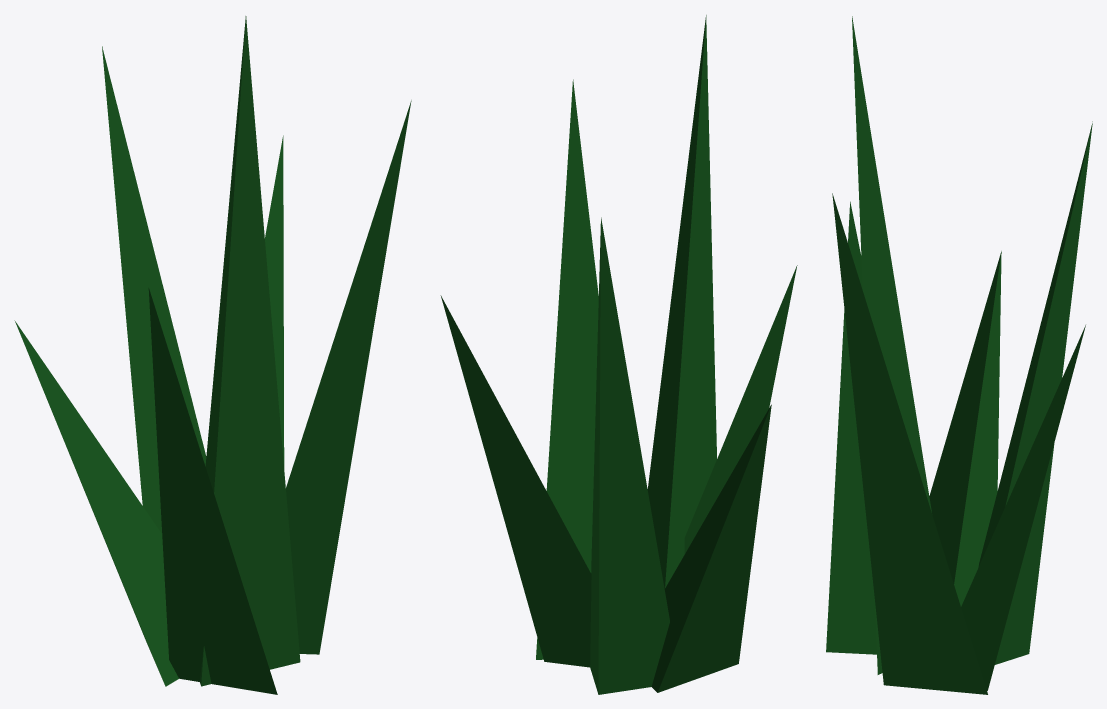
Rendered from grass1.fbx.
The picture shows the model from 3 angles, left to right: view 1: azimuth 30°, elevation 25°; view 2: azimuth 150°, elevation 25°; view 3: azimuth 270°, elevation 25°; orthographic projection. The views are drawn at different scales.
Parts seen in each view (by area): view 1: Cone, Cone.005, Cone.002, Cone.003, Cone.001, Cone.004; view 2: Cone.003, Cone, Cone.004, Cone.002, Cone.001, Cone.005; view 3: Cone.002, Cone.001, Cone.003, Cone.005, Cone.004, Cone.
Part boxes in pixels (<box>): Cone: <box>199,16,300,686</box>; Cone.005: <box>148,288,277,694</box>; Cone.002: <box>286,100,411,654</box>; Cone.003: <box>102,46,206,533</box>; Cone.001: <box>14,320,178,686</box>; Cone.004: <box>265,135,284,467</box>; Cone.003: <box>590,217,669,694</box>; Cone: <box>647,15,716,588</box>; Cone.004: <box>440,295,591,667</box>; Cone.002: <box>536,79,598,659</box>; Cone.001: <box>651,404,771,692</box>; Cone.005: <box>684,265,797,553</box>; Cone.002: <box>832,193,987,694</box>; Cone.001: <box>929,251,1001,606</box>; Cone.003: <box>978,121,1092,664</box>; Cone.005: <box>826,201,876,654</box>; Cone.004: <box>961,325,1085,690</box>; Cone: <box>852,16,931,674</box>.
Bounding box in the file's own units: 148 × 304 × 117.
